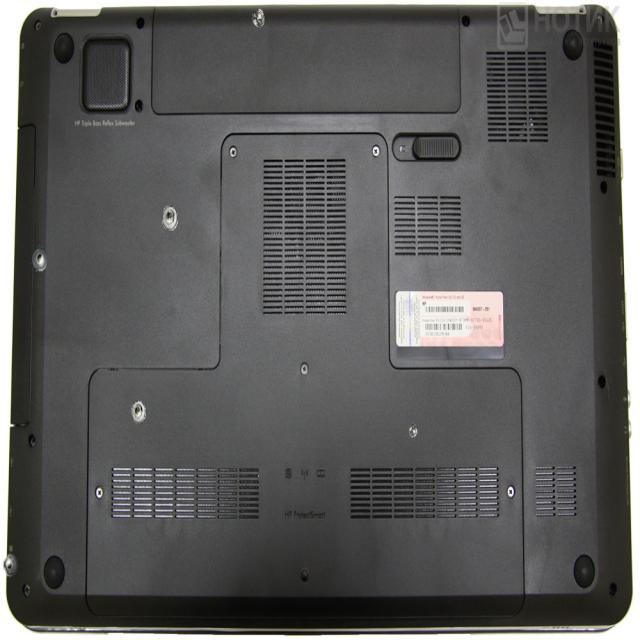lock: (252, 8, 264, 28), (408, 423, 417, 437)
missing_screw: (161, 205, 178, 231), (31, 245, 47, 271), (131, 400, 146, 423), (3, 554, 17, 575)
